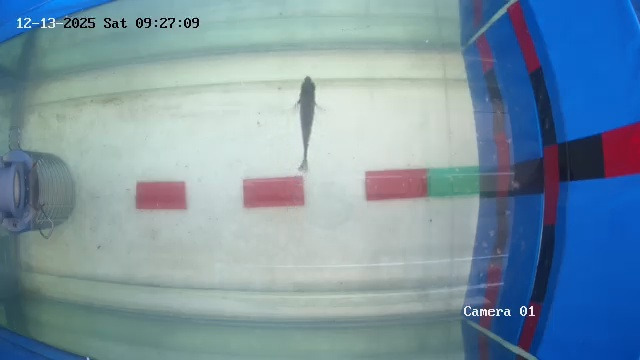fish: (291, 77, 320, 171)
